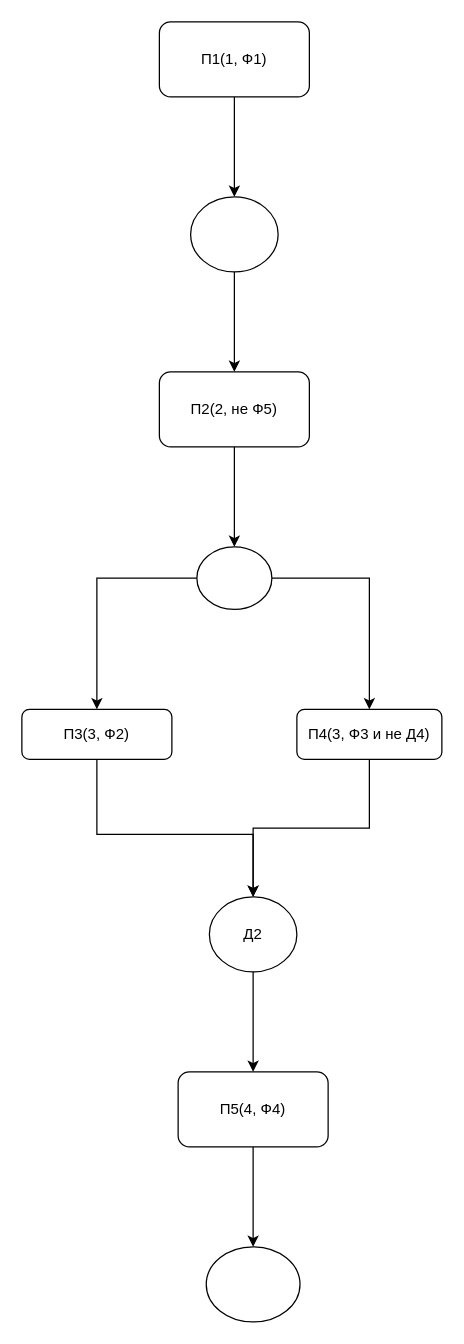
Image size: 464x1344. Some labels were removed from this diagram. The box of each missing label's shape, as (x1, y1, x2, y2) in pixels:
Д1: (189, 196, 278, 272)
Д3: (196, 546, 272, 609)
Д4: (205, 1246, 300, 1322)
